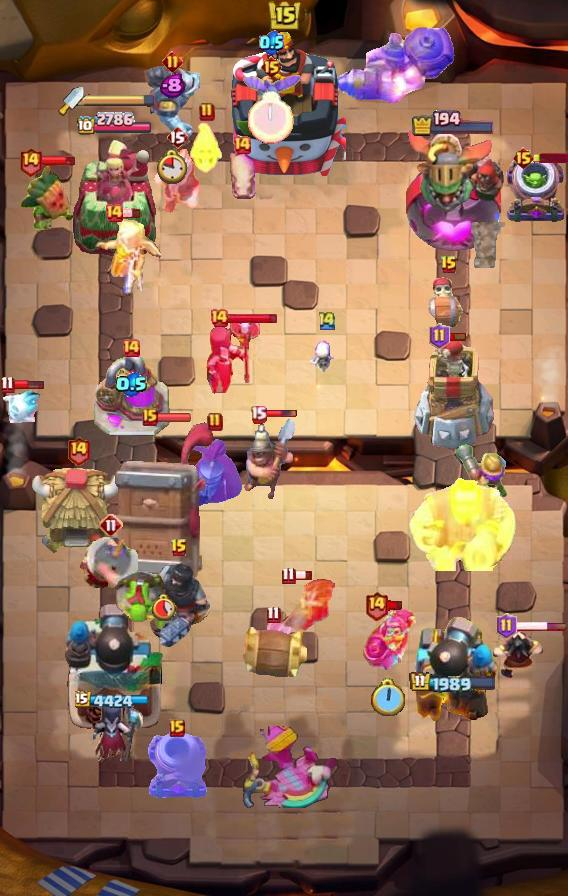bar: (227, 312, 278, 325), (514, 621, 568, 632), (40, 155, 76, 167), (10, 379, 45, 391), (156, 412, 192, 423), (532, 153, 568, 163), (264, 409, 298, 419), (293, 569, 313, 581), (447, 331, 467, 342), (122, 208, 141, 219), (387, 600, 404, 611)
bar-level: (364, 590, 389, 621), (66, 435, 91, 466), (18, 146, 43, 177), (99, 513, 123, 537), (512, 146, 535, 170), (260, 55, 283, 79), (496, 613, 517, 639), (429, 323, 450, 349), (166, 125, 188, 149), (162, 51, 183, 72), (317, 310, 337, 331), (121, 338, 141, 358), (209, 308, 229, 328), (104, 203, 124, 223), (232, 135, 252, 155), (170, 538, 188, 558), (440, 255, 458, 275), (250, 405, 267, 424), (207, 412, 223, 432), (199, 102, 215, 122), (169, 719, 185, 737), (142, 408, 158, 426), (266, 605, 281, 624), (281, 566, 296, 585), (0, 375, 15, 394)
barbarian-barrel: (236, 626, 310, 678)
bat-evolution: (239, 75, 303, 101)
cannoneer-tower: (64, 601, 164, 731), (402, 136, 504, 256), (403, 615, 503, 731)
clock: (248, 91, 294, 144), (371, 678, 407, 719), (157, 148, 188, 184), (150, 593, 177, 621)
dagger-duchess-tower: (70, 138, 158, 256)
dagger-duchess-tower-bar: (84, 93, 156, 107)
dart-goblin: (19, 163, 77, 233)
dirt: (468, 222, 506, 268)
electro-wizard: (491, 629, 545, 681)
elixir: (115, 372, 148, 397), (159, 73, 185, 99), (259, 30, 284, 55)
executioner: (78, 537, 144, 603)
goblin-ball: (115, 570, 169, 632)
heal-spirit: (189, 121, 225, 175)
hog: (226, 149, 258, 201)
ice-spirit: (0, 389, 42, 425)
ice-wizard: (151, 149, 203, 217)
king-tower: (222, 31, 346, 181)
knight-evolution: (362, 608, 416, 671)
mega-minion: (144, 62, 200, 142)
miner: (238, 416, 298, 504)
mortar-evolution: (145, 731, 209, 801), (504, 155, 568, 225)
musketeer: (456, 442, 508, 500)
night-witch: (203, 315, 263, 399), (90, 697, 146, 767)
skeleton: (310, 336, 345, 374)
tower-bar: (411, 110, 496, 137), (409, 671, 497, 695), (76, 112, 153, 137), (75, 691, 153, 711)
valkyrie: (264, 576, 336, 644)
wall-breaker: (423, 276, 475, 330)
